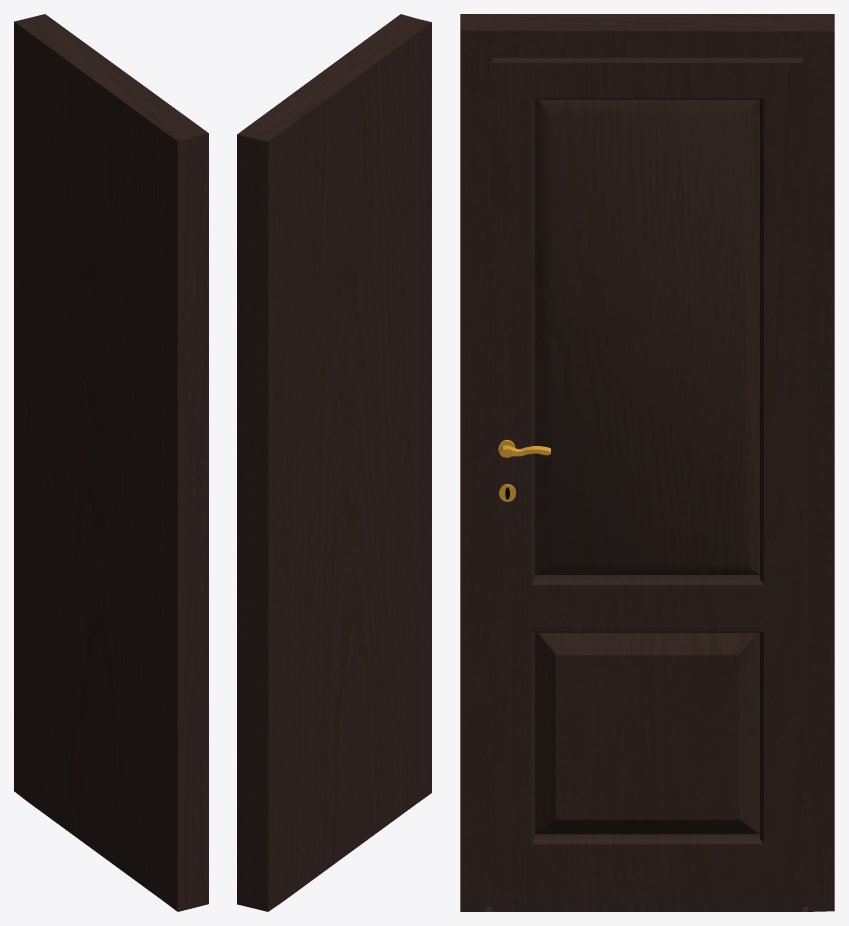
Rendered from Porte-bois.glb.
3 views of the same model, side by side, from view 1: azimuth 30°, elevation 25°; view 2: azimuth 150°, elevation 25°; view 3: azimuth 270°, elevation 25° (orthographic). The views are drawn at different scales.
Visible parts, largest first — view 1: poignée; view 2: poignée; view 3: poignée.
Part boxes in pixels (bbox=[...]): poignée: bbox=[14, 14, 208, 911]; poignée: bbox=[237, 14, 431, 911]; poignée: bbox=[460, 14, 834, 911].
Size of the model in its own units: 0.1072 by 1.9 by 0.73.
4 materials, 1 textured.
